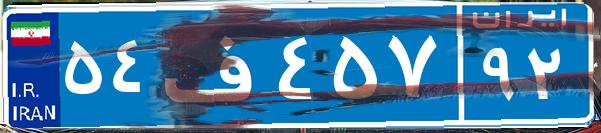2: (525, 38, 570, 115)
4: (273, 28, 330, 110), (110, 28, 158, 105)
5: (330, 28, 385, 110), (57, 26, 110, 107)
7: (385, 28, 445, 110)
9: (475, 38, 525, 113)
ف: (158, 15, 273, 115)
